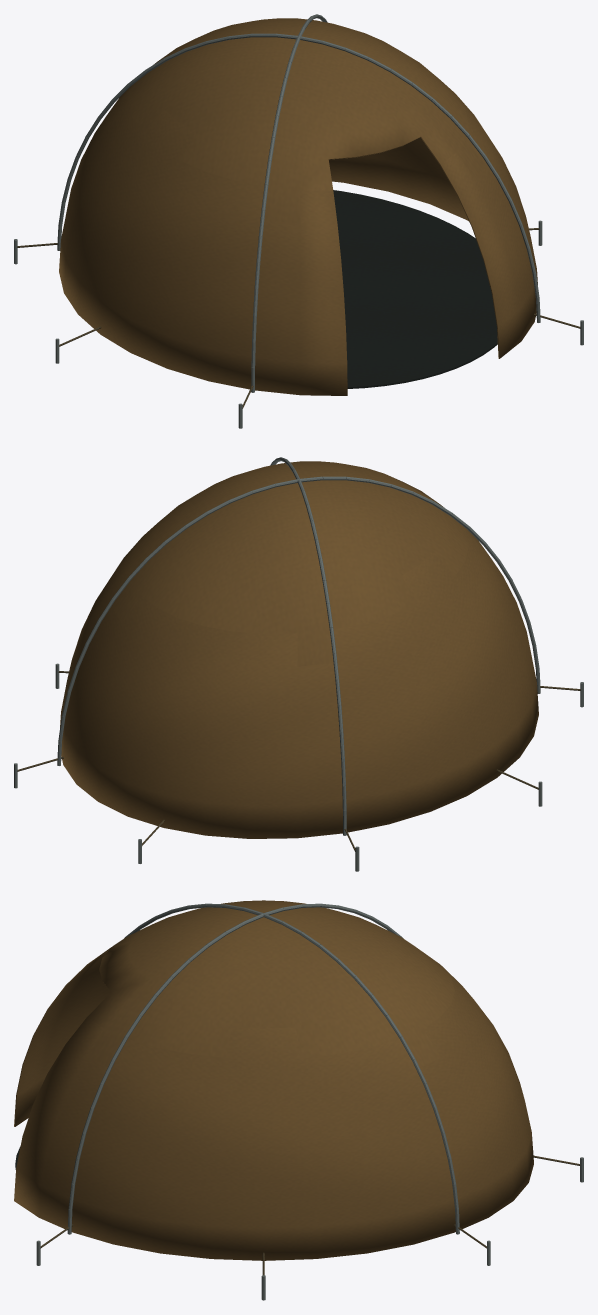
The model's file is level_camp_tent_dome.glb.
The picture shows the model from 3 angles, top to bottom: view 1: azimuth 30°, elevation 25°; view 2: azimuth 150°, elevation 25°; view 3: azimuth 270°, elevation 25°; orthographic projection.
Parts seen in each view (by area): view 1: level_camp_tent_dome; view 2: level_camp_tent_dome; view 3: level_camp_tent_dome.
Boxes of the visible parts, box(x1,y1,x2,y2) form: level_camp_tent_dome: box(14, 14, 583, 428); level_camp_tent_dome: box(14, 457, 583, 871); level_camp_tent_dome: box(14, 900, 583, 1300).
Size of the model in its own units: 3.44 by 1.81 by 3.49.
4 materials, 4 textured.
